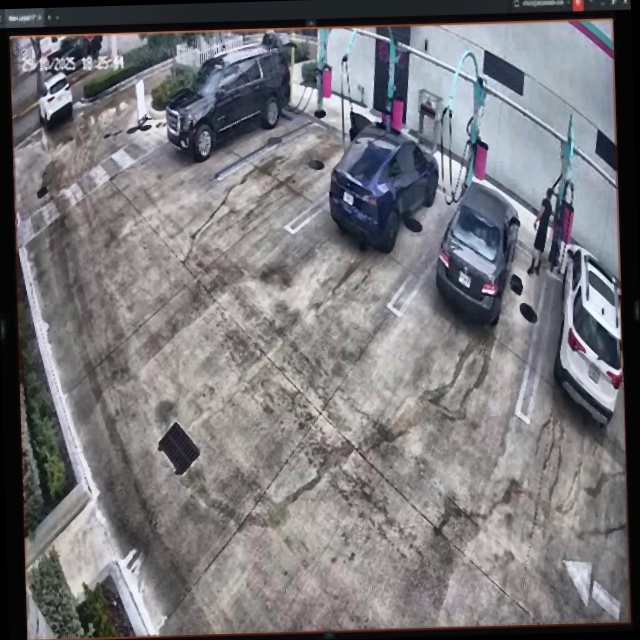Car: (328, 119, 440, 250), (164, 45, 291, 156), (436, 181, 521, 328)
